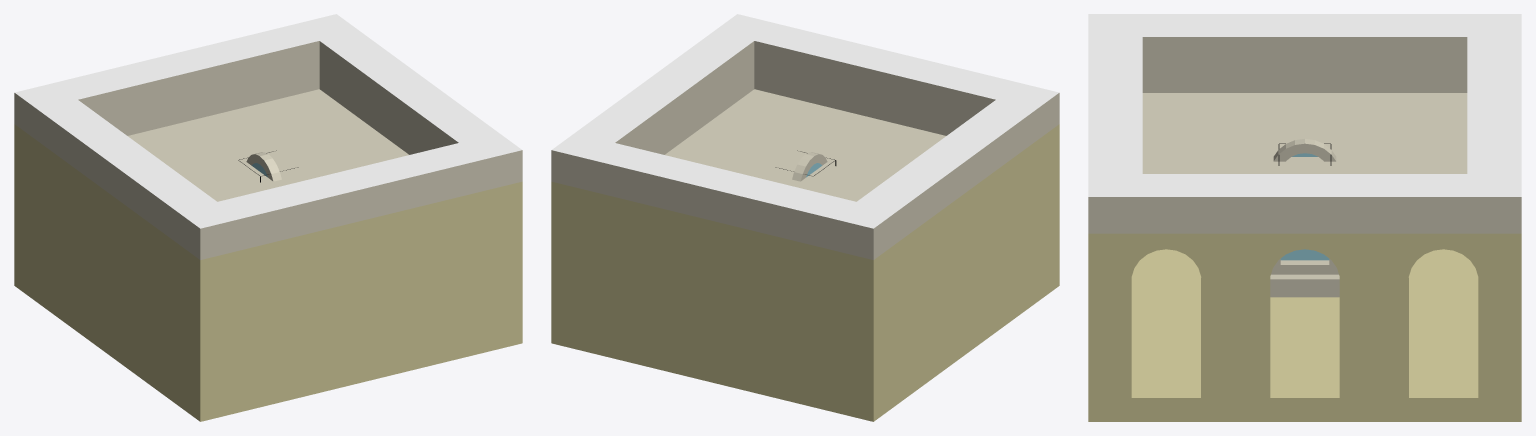
The model's file is Building 54.FBX.
3 renders of one model, left to right at view 1: azimuth 30°, elevation 25°; view 2: azimuth 150°, elevation 25°; view 3: azimuth 270°, elevation 25°, orthographic. The views are drawn at different scales.
Visible parts, largest first — view 1: Group16; view 2: Group16; view 3: Group16, Group17, Group18, Group19.
Part boxes in pixels (x1,y1,x2,y2): Group16: [14, 14, 522, 421]; Group16: [551, 14, 1059, 421]; Group16: [1088, 14, 1521, 421]; Group17: [1270, 139, 1339, 297]; Group18: [1271, 139, 1337, 274]; Group19: [1272, 139, 1337, 274].
Size of the model in its own units: 29.53 by 16.93 by 29.53.
